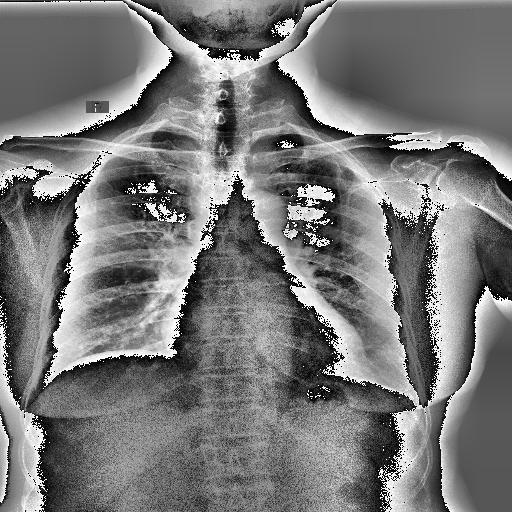0- Aortic enlargement: (228, 190, 288, 236), (234, 192, 286, 242)
3- Cardiomegaly: (160, 308, 368, 384), (158, 310, 370, 376), (157, 316, 366, 376)
